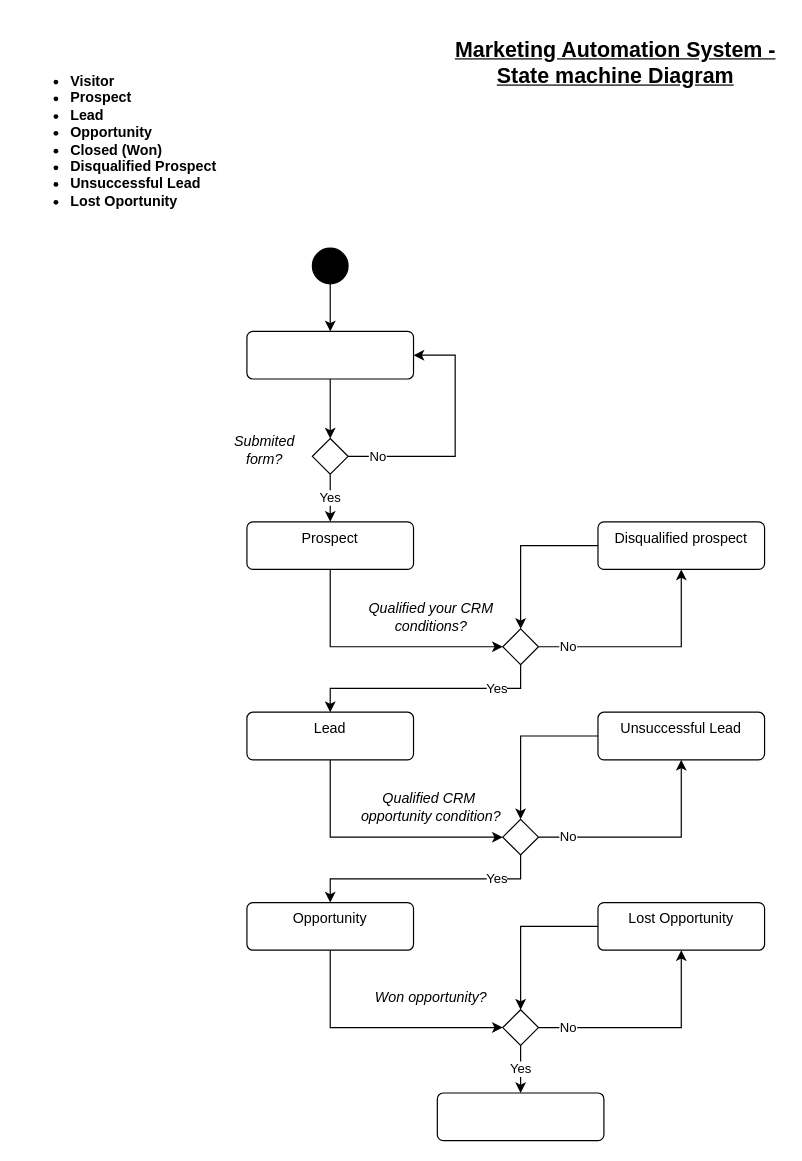
Some shapes in this 802 by 1161 pixel diagram are drawn without their labels. The shapes that lost their labels are listed below. From the top down, each one's box as (x1, y1, x2, y2) in pixels, then its label:
(246, 330, 414, 379): Visitor
(436, 1092, 604, 1141): Closed won
